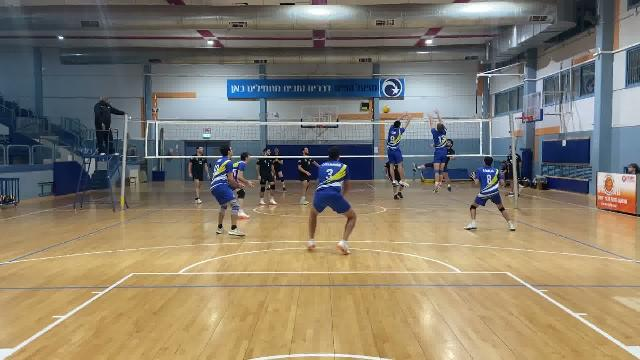ball: (381, 106, 392, 115)
